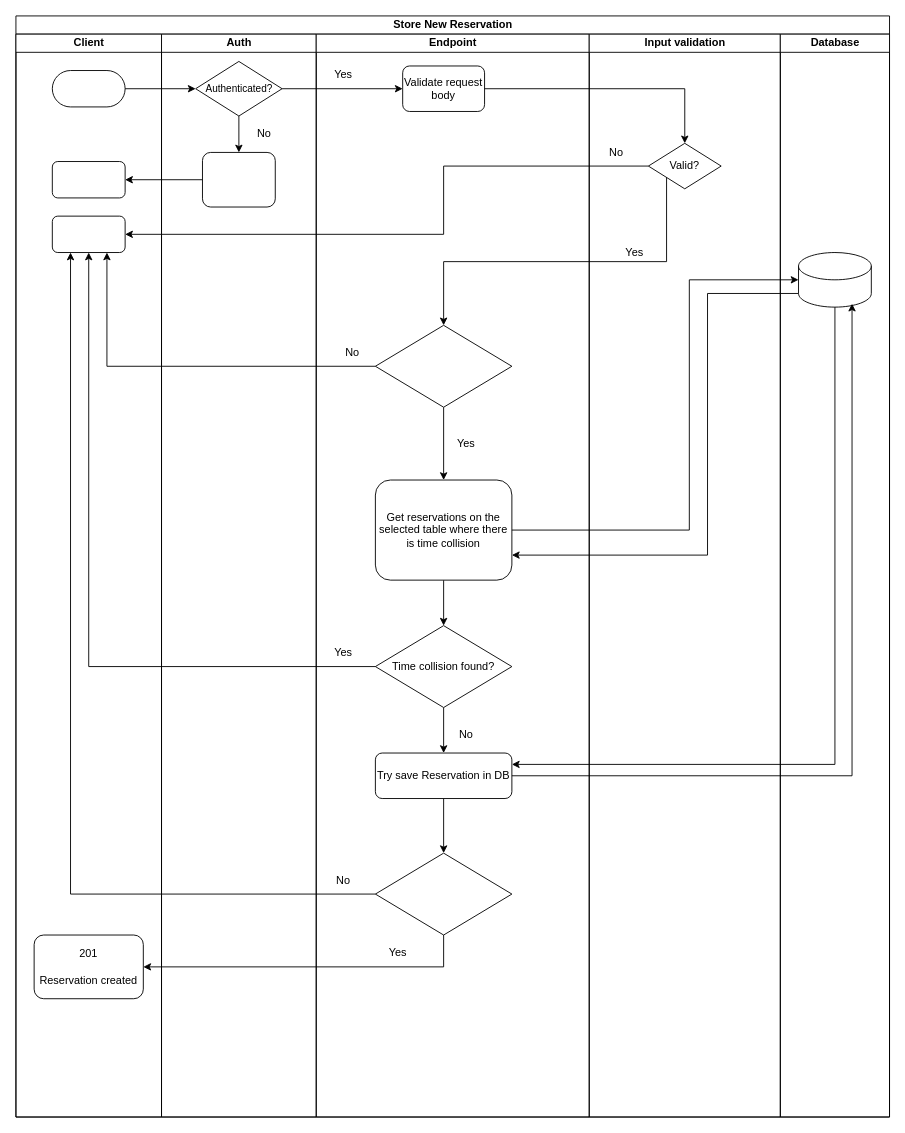
This 905x1133 diagram has some shape labels left out. Each missing label, with the centre of its shape:
400 Error: the point at 88,234
401 Error: the point at 88,179
Invalid token or User not authenticaed: the point at 238,179
Request: the point at 88,88
Reservations: the point at 834,279
Saved?: the point at 443,893
starting_time is in the present or future?: the point at 443,365
